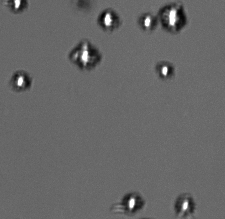Living Cell: (160, 2, 189, 32), (73, 39, 98, 68), (97, 7, 122, 30), (120, 190, 142, 212), (173, 192, 196, 213), (10, 69, 31, 90), (138, 10, 156, 31), (157, 58, 174, 80), (7, 1, 30, 12)
